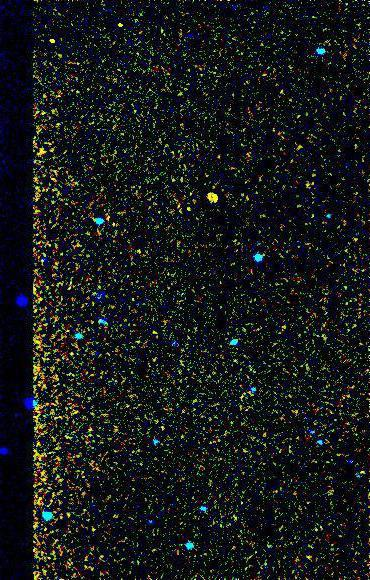star: (105, 9, 135, 39)
